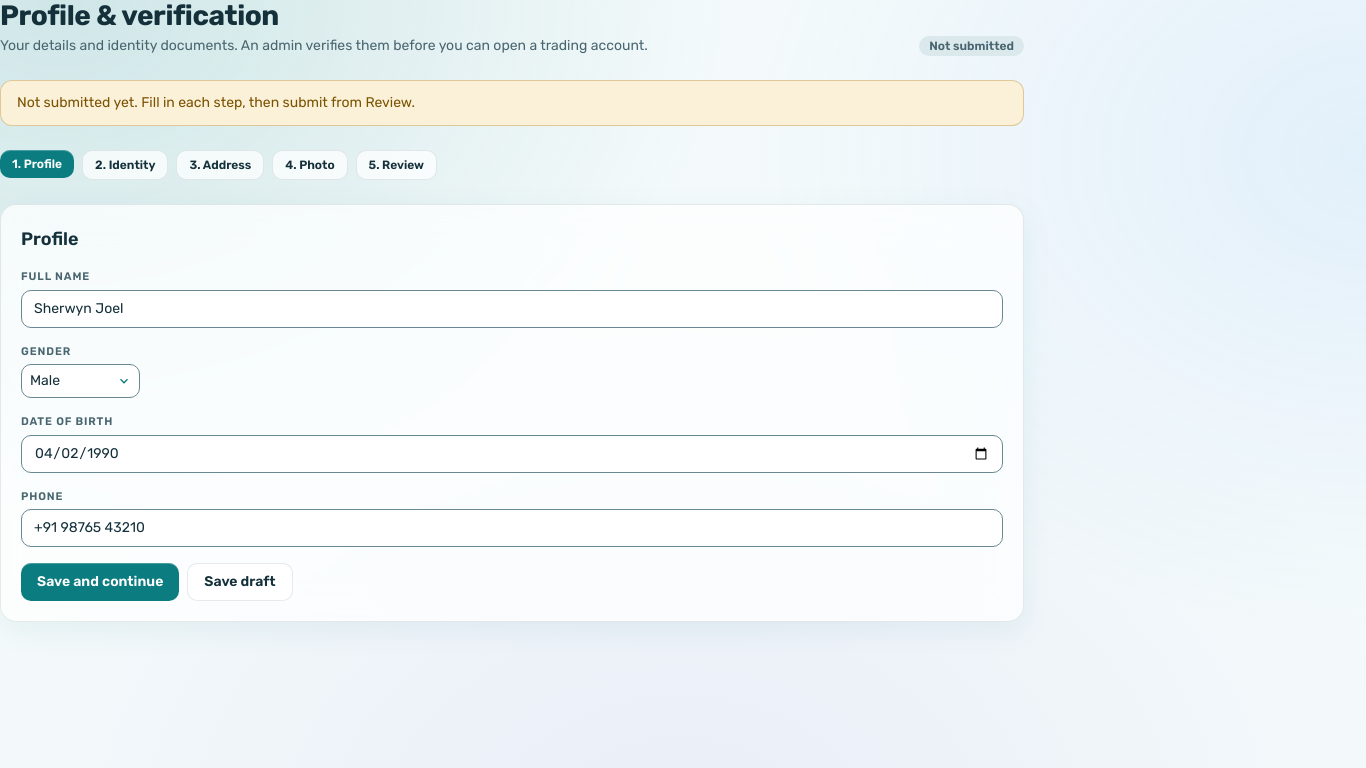
Test: a 409 on save reloads the profile and keeps the conflict visible
The image size is (1366, 768).
Replace the text in the field labelled "Full name" with "My Edit": (512,309) [21,290,1003,328]
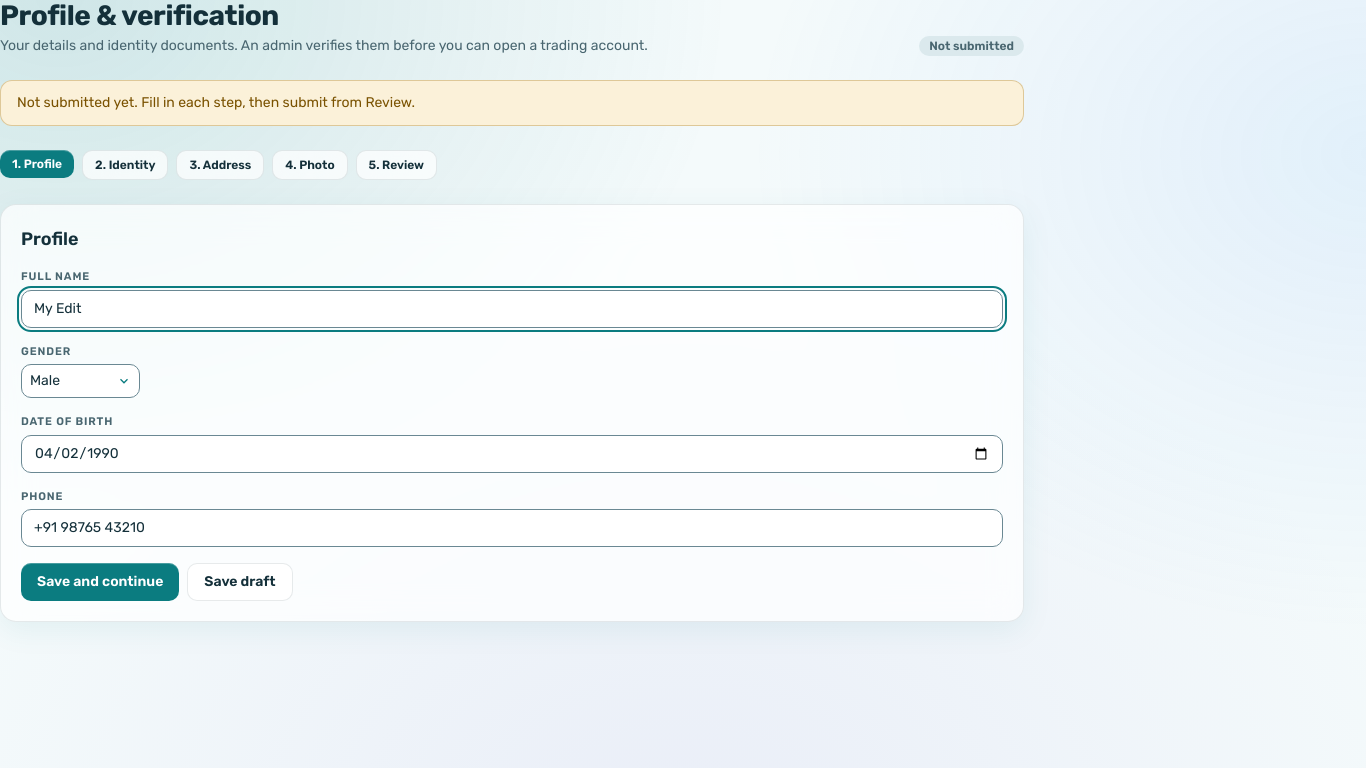
Click the button "Save and continue": (100,582) [21,563,179,601]
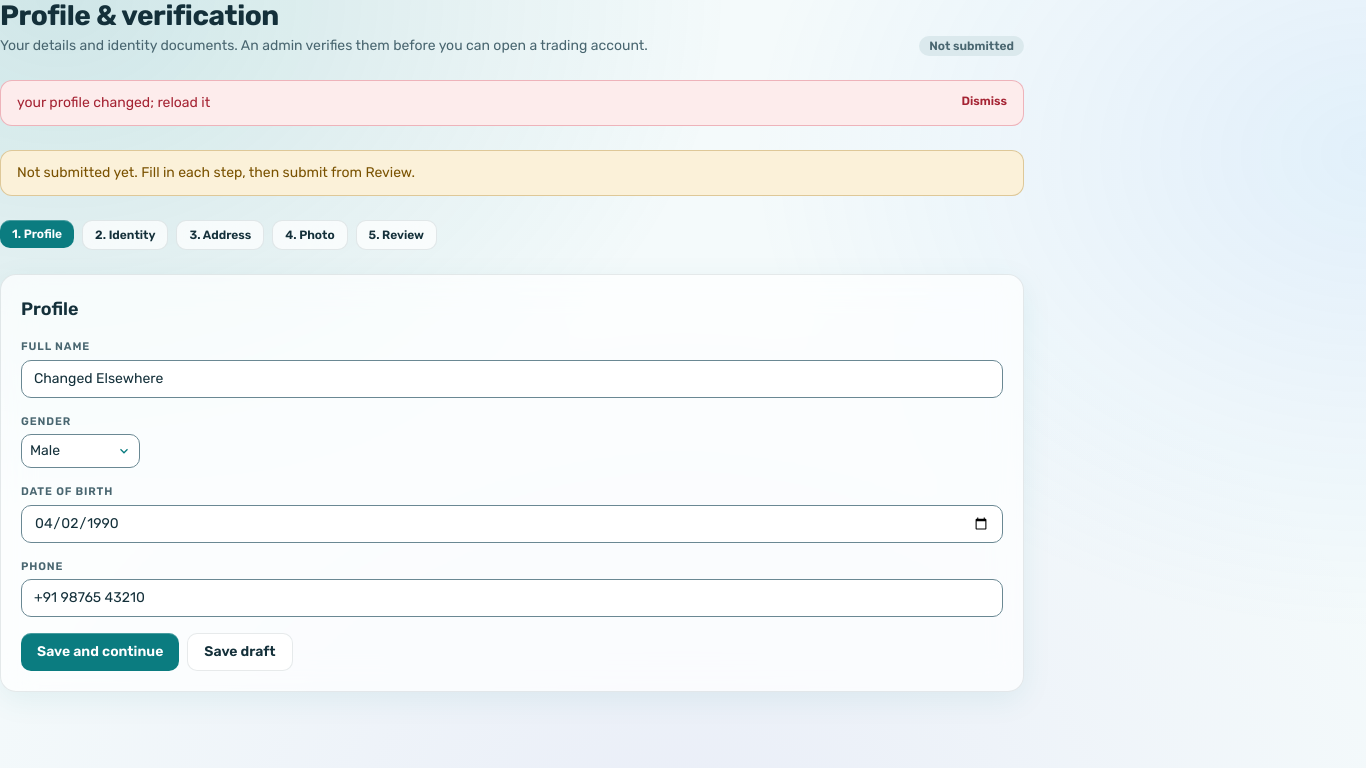
Check: the text "your profile changed; reload it" is shown, box [17,93,210,113]
Check: the field labelled "Full name" holds "Changed Elsewhere", box [21,360,1003,398]
